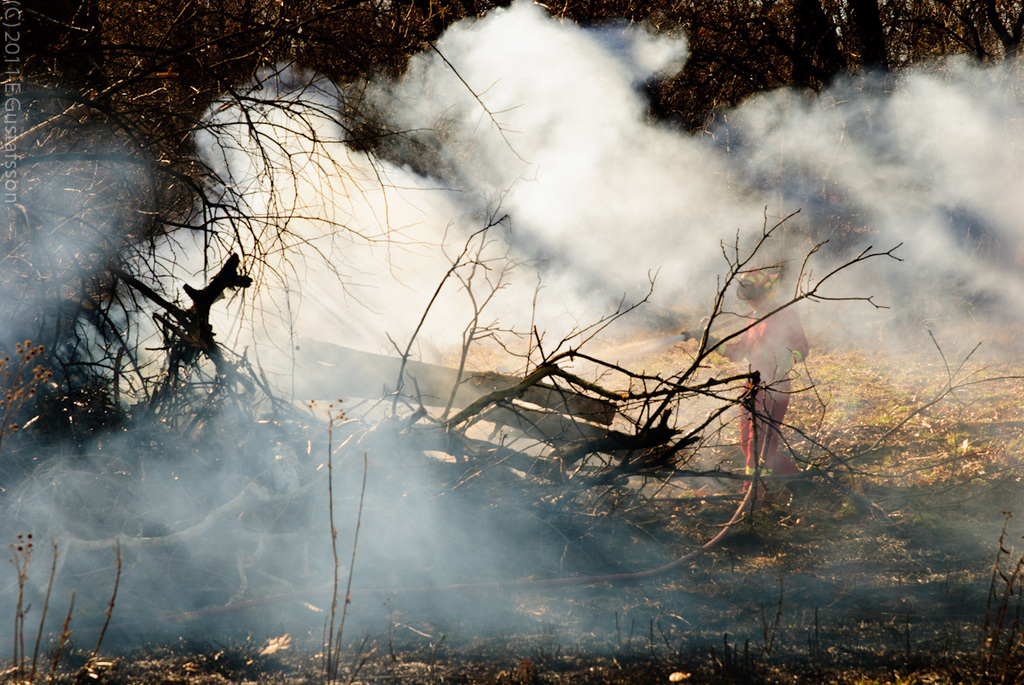Tree: (0, 0, 1022, 685)
